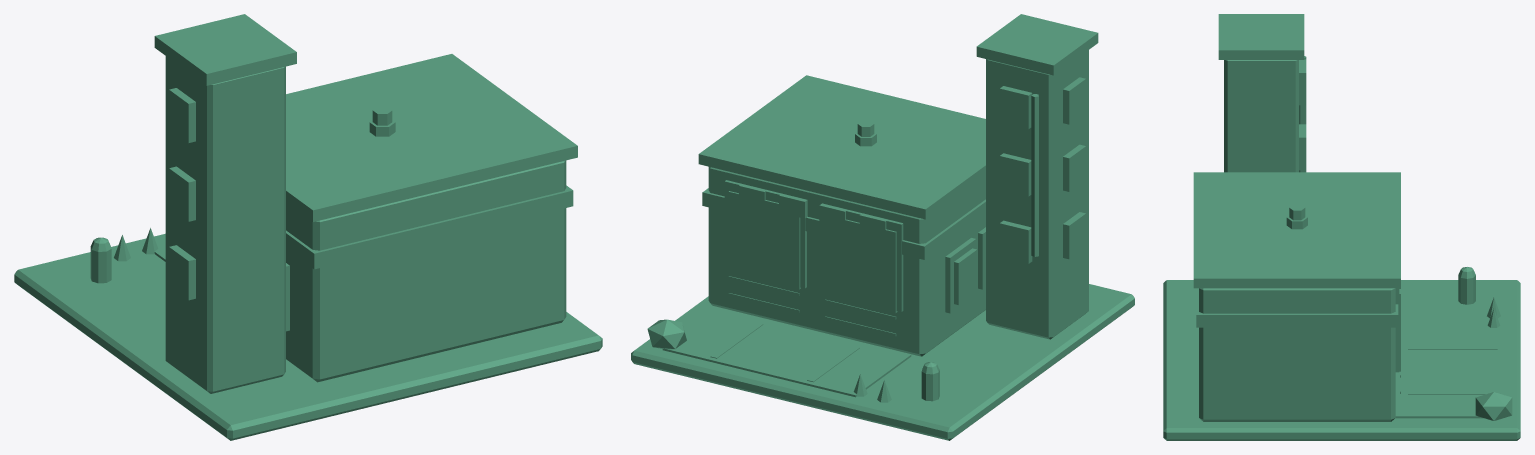
3 views of the same model, side by side, from view 1: azimuth 30°, elevation 25°; view 2: azimuth 150°, elevation 25°; view 3: azimuth 270°, elevation 25° (orthographic). The views are drawn at different scales.
Parts seen in each view (by area): view 1: corpo; view 2: corpo; view 3: corpo.
Boxes of the visible parts, bbox=[...] form: corpo: bbox=[14, 14, 602, 440]; corpo: bbox=[631, 14, 1134, 440]; corpo: bbox=[1163, 14, 1520, 440].
Bounding box in the file's own units: 2 × 1.74 × 2.
